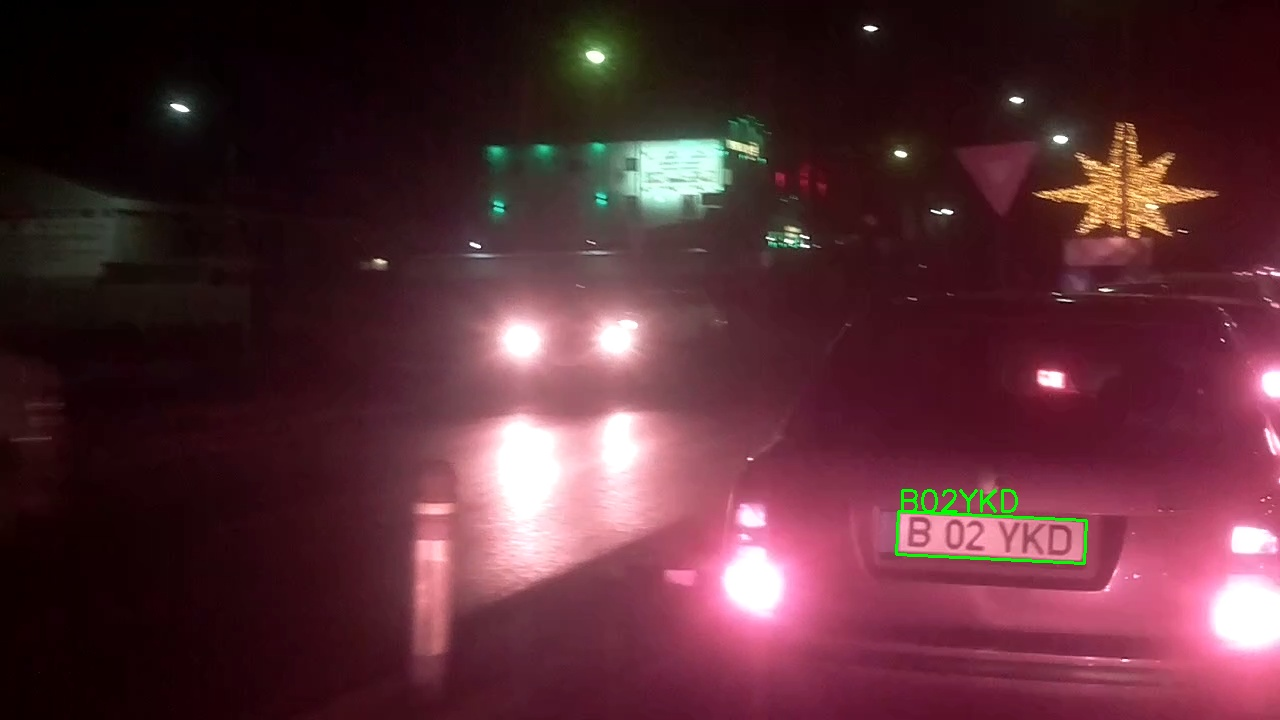license-plate: (895, 510, 1087, 565)
